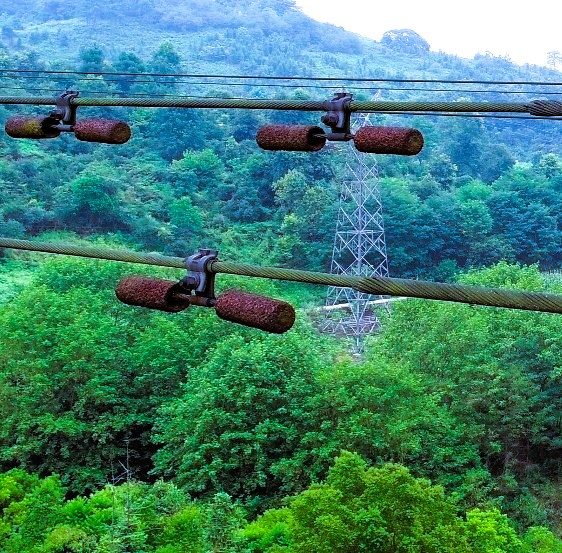Shockproof hammer: (108, 239, 298, 339), (250, 86, 432, 163), (2, 85, 134, 145)
